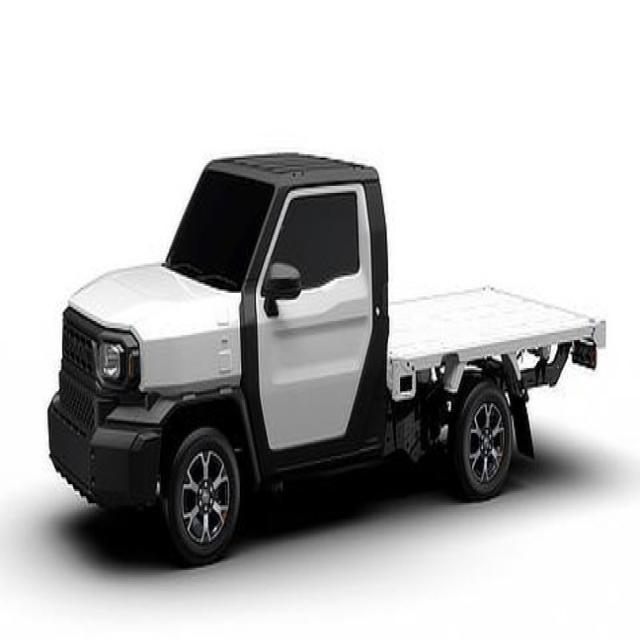person: (45, 148, 606, 566)
